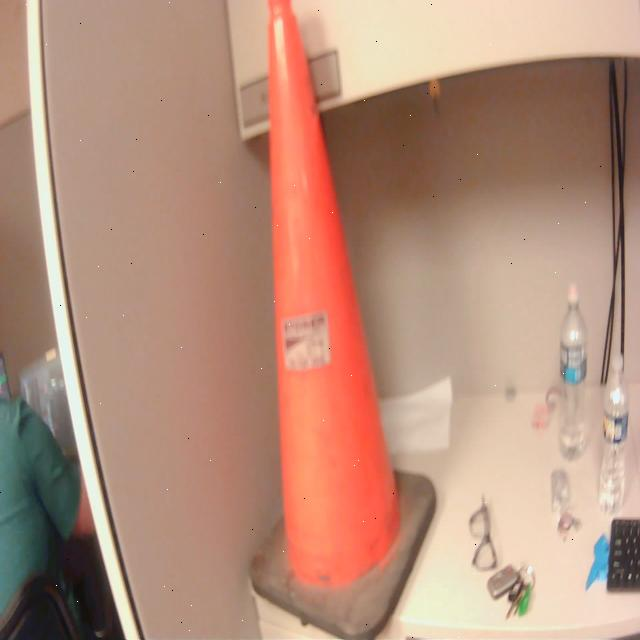traffic cone: (248, 1, 444, 640)
